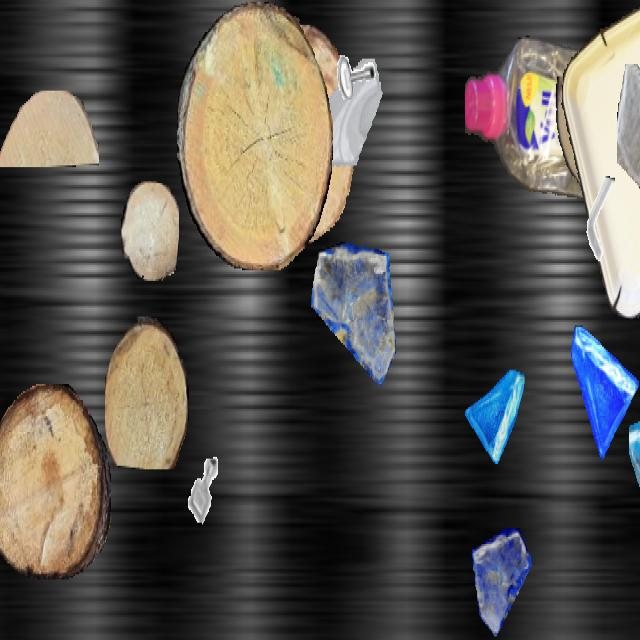glass: (311, 242, 395, 391), (311, 58, 387, 194), (563, 326, 639, 460), (471, 528, 533, 638), (464, 357, 524, 464), (617, 64, 640, 188), (629, 410, 640, 578)
metal: (326, 2, 380, 98), (178, 444, 230, 537), (576, 176, 626, 265)
plastic: (465, 32, 640, 224), (559, 2, 640, 318)
wood: (177, 2, 333, 268), (237, 25, 355, 245), (0, 384, 111, 580), (105, 316, 189, 469), (555, 76, 640, 198), (0, 91, 98, 165), (121, 181, 179, 281)
